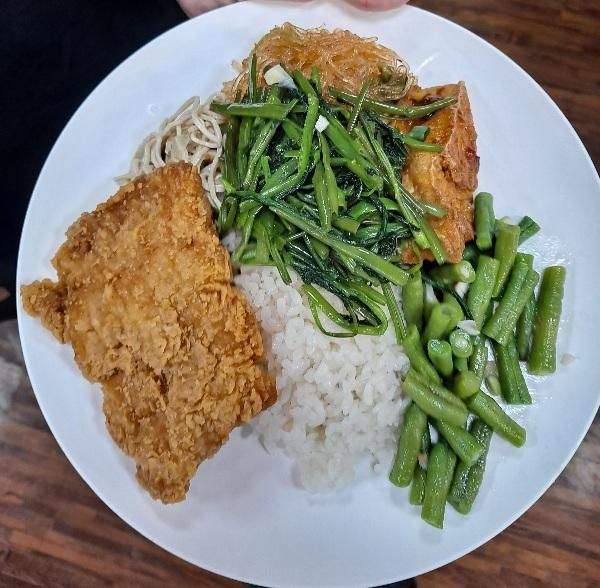big fried chicken leg: (10, 6, 600, 588)
big herbal chicken leg: (248, 275, 409, 496)
braised fish fillet: (399, 223, 573, 517), (240, 87, 415, 308), (401, 82, 500, 247), (247, 19, 412, 97), (136, 86, 232, 174)
braised pork: (28, 156, 281, 509)
